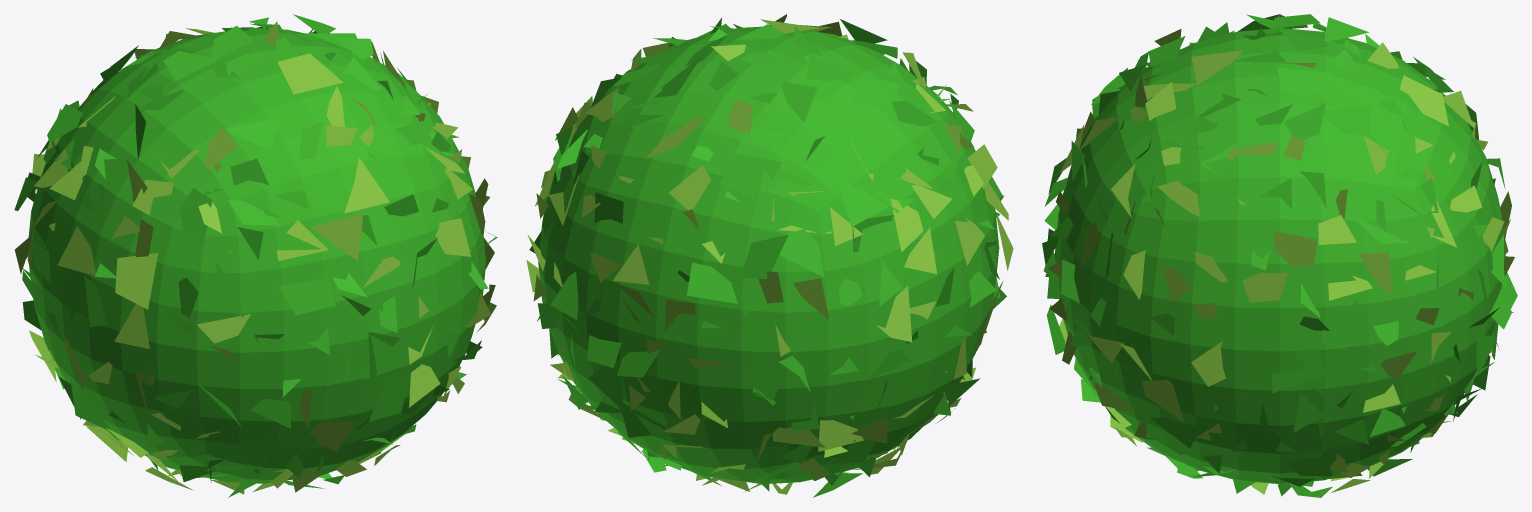
Rendered from Bush_4.fbx.
3 views of the same model, side by side, from view 1: azimuth 30°, elevation 25°; view 2: azimuth 150°, elevation 25°; view 3: azimuth 270°, elevation 25° (orthographic).
Parts seen in each view (by area): view 1: Cube.011; view 2: Cube.011; view 3: Cube.011.
Boxes of the visible parts, x1=… form: Cube.011: x1=14, y1=14, x2=497, y2=497; Cube.011: x1=526, y1=14, x2=1013, y2=497; Cube.011: x1=1042, y1=14, x2=1517, y2=497.
Bounding box in the file's own units: 77.77 × 78.02 × 78.18.
